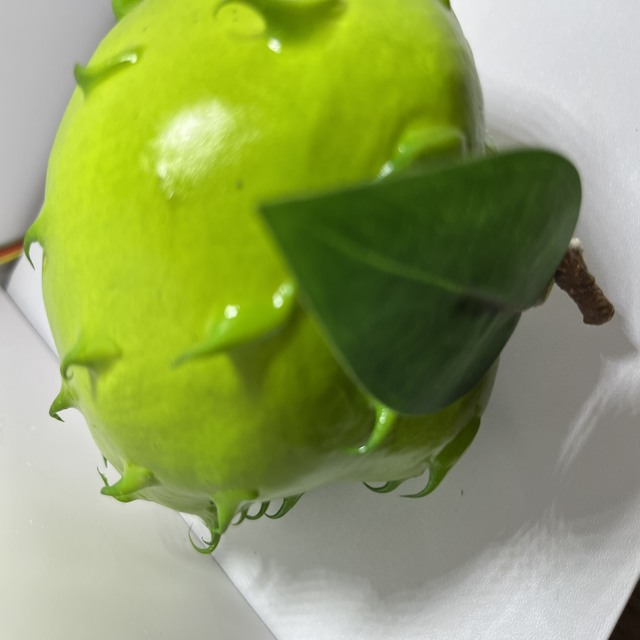Man cau: (21, 0, 517, 559)
